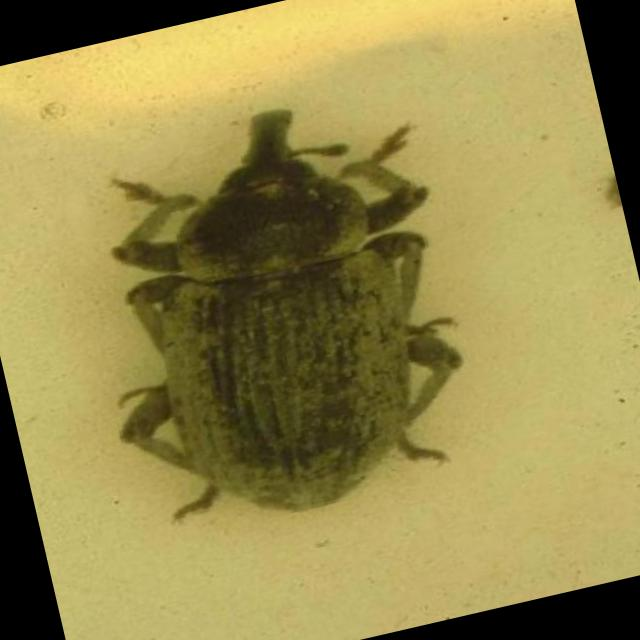rice-bug: (64, 76, 494, 544)
